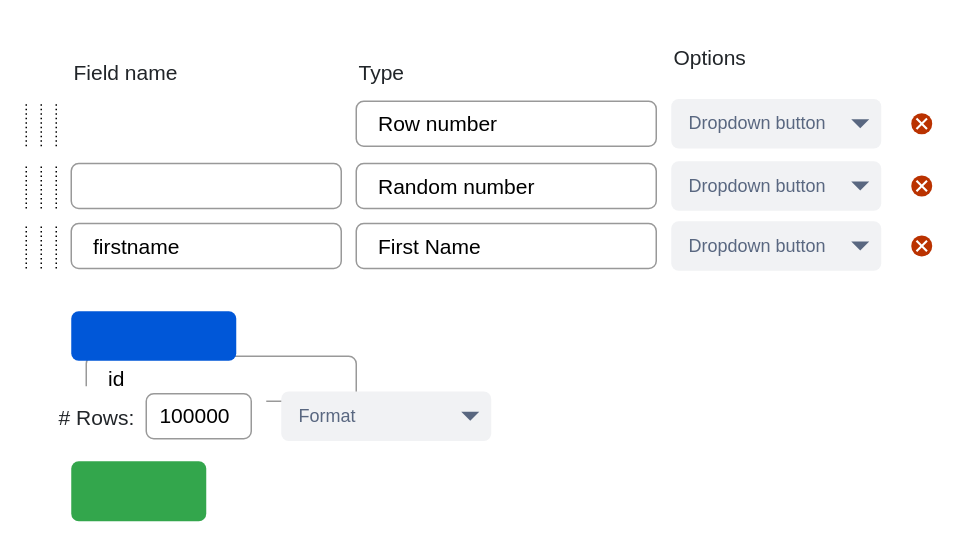
The diagram is 959 pixels wide and 546 high, and some of its shapes have lost their labels. Here are the shapes that lost their labels. From the top down, the centre of each, then its label:
At (x=205, y=185): "accountnumber".
At (x=153, y=335): "Add another field".
At (x=138, y=490): "Download".
